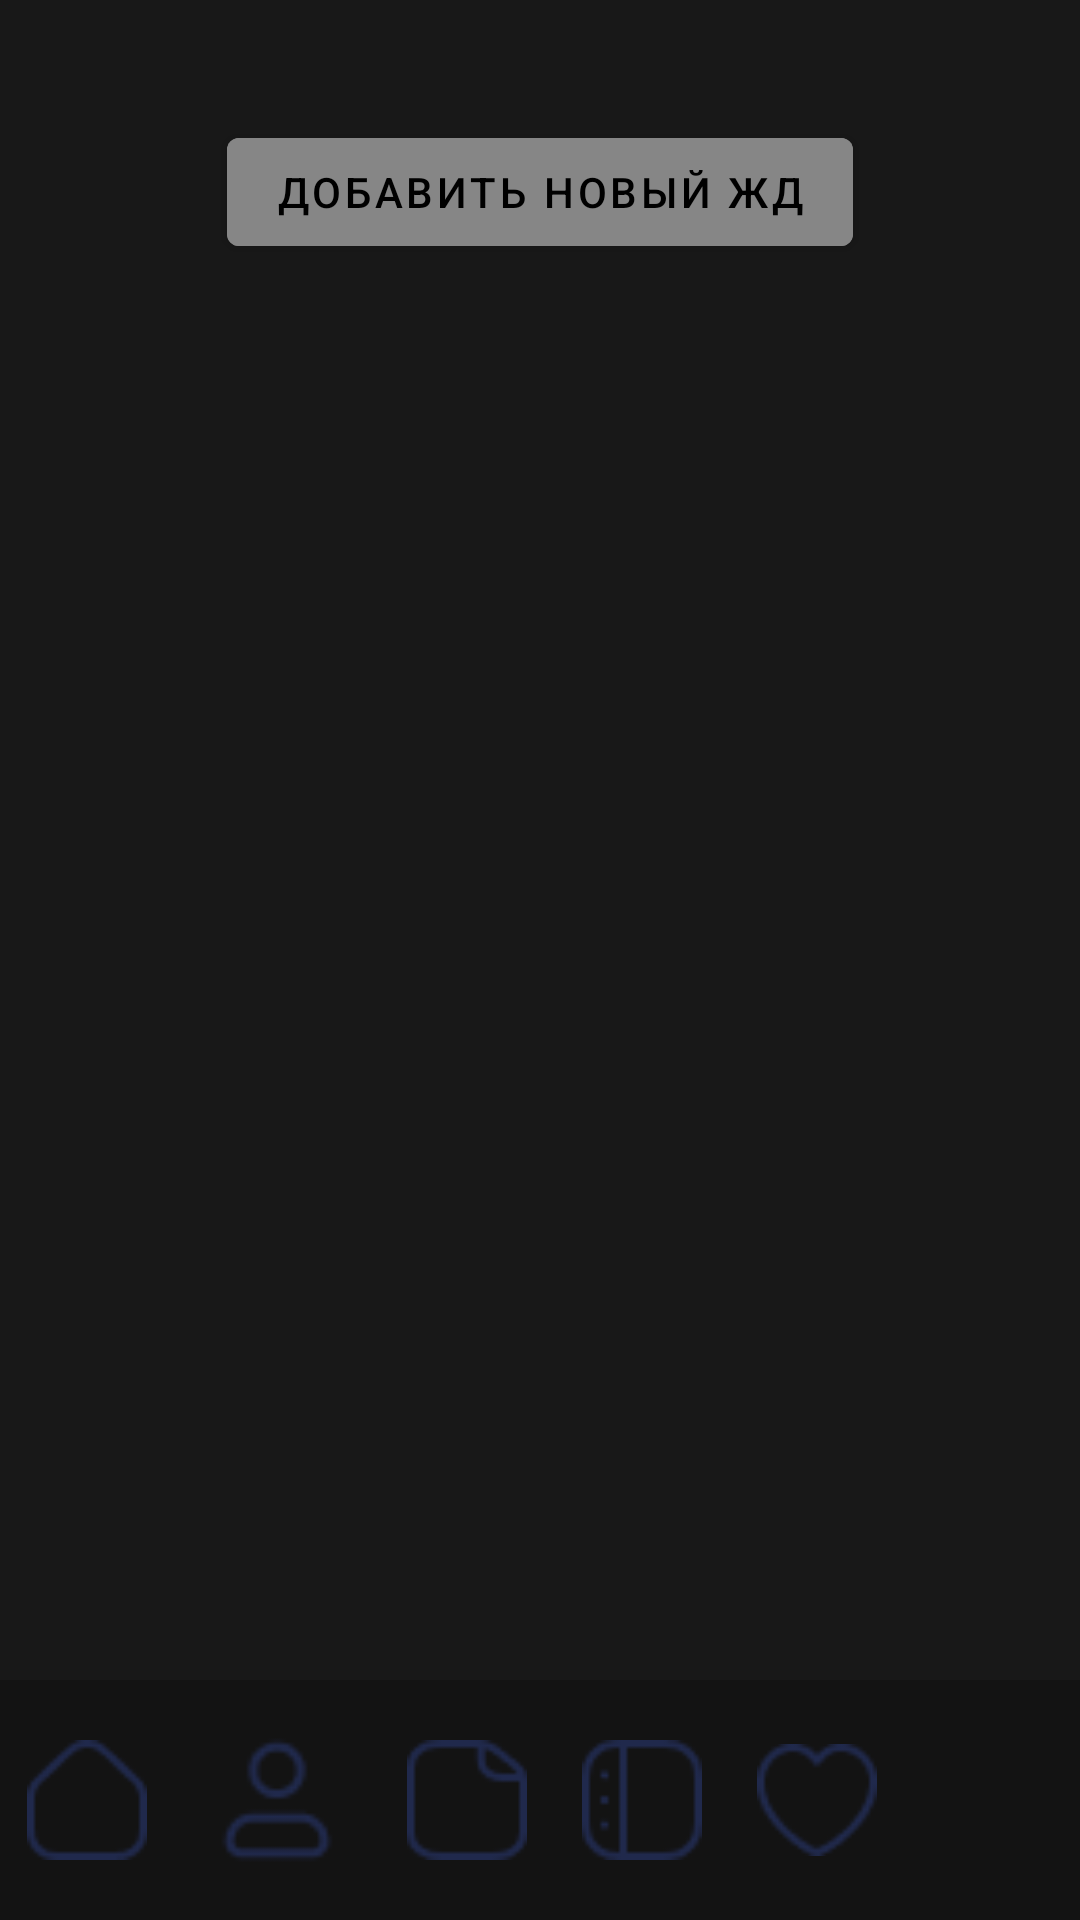

Point at icon controls on the screen. Image size 1080w x 1920h, points as point (x, y).
favourites: point (817, 1800)
user: point (277, 1800)
